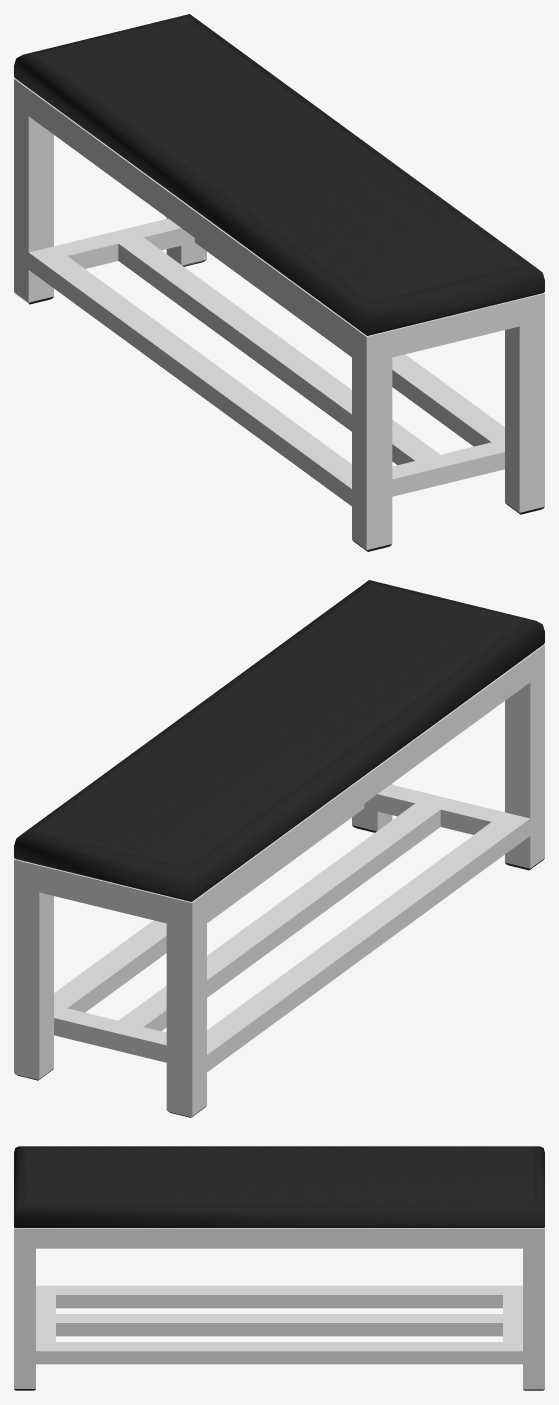
The model's file is SM_更衣室凳子001.fbx.
3 views of the same model, one above another, from view 1: azimuth 30°, elevation 25°; view 2: azimuth 150°, elevation 25°; view 3: azimuth 270°, elevation 25° (orthographic). The views are drawn at different scales.
Visible parts, largest first — view 1: SM_更衣室凳子001; view 2: SM_更衣室凳子001; view 3: SM_更衣室凳子001.
Boxes of the visible parts, bbox=[...] form: SM_更衣室凳子001: bbox=[14, 14, 544, 551]; SM_更衣室凳子001: bbox=[14, 580, 544, 1117]; SM_更衣室凳子001: bbox=[14, 1146, 544, 1390].
Size of the model in its own units: 35 by 45.64 by 120.
